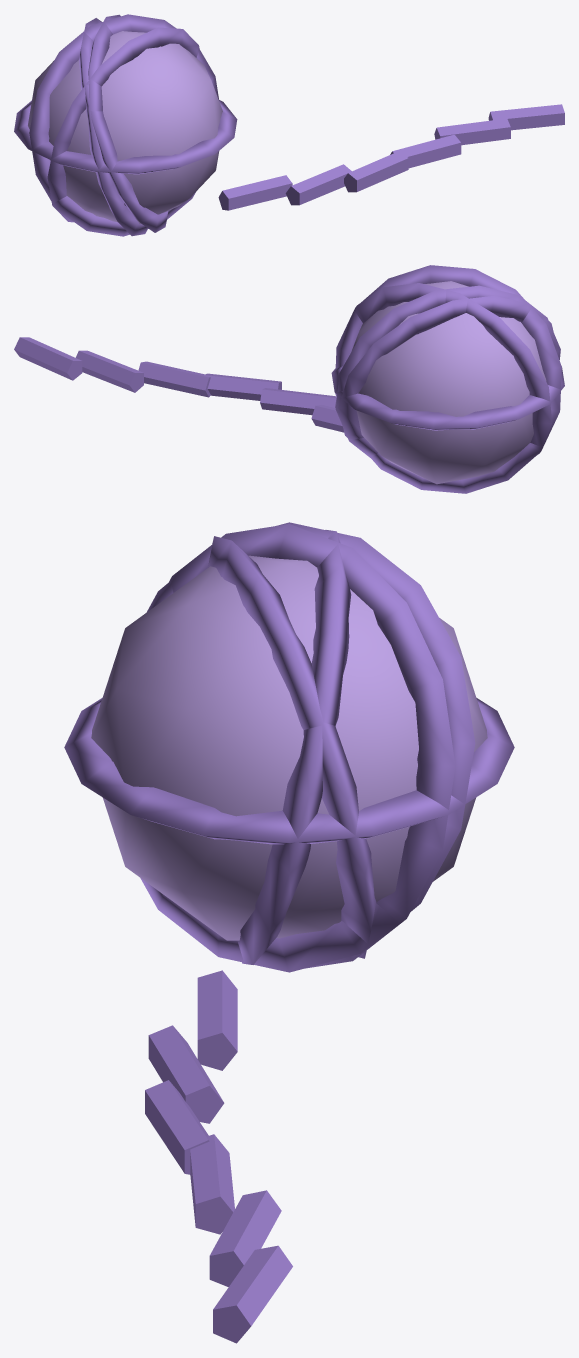
File: prop_yarn.glb
The picture shows the model from 3 angles, top to bottom: view 1: azimuth 30°, elevation 25°; view 2: azimuth 150°, elevation 25°; view 3: azimuth 270°, elevation 25°; orthographic projection. The views are drawn at different scales.
Parts seen in each view (by area): view 1: prop_yarn; view 2: prop_yarn; view 3: prop_yarn.
Part boxes in pixels (x1,y1,x2,y2): prop_yarn: (14, 14, 564, 236); prop_yarn: (14, 265, 564, 493); prop_yarn: (64, 522, 514, 1343).
Size of the model in its own units: 0.3269 by 0.1173 by 0.122.
